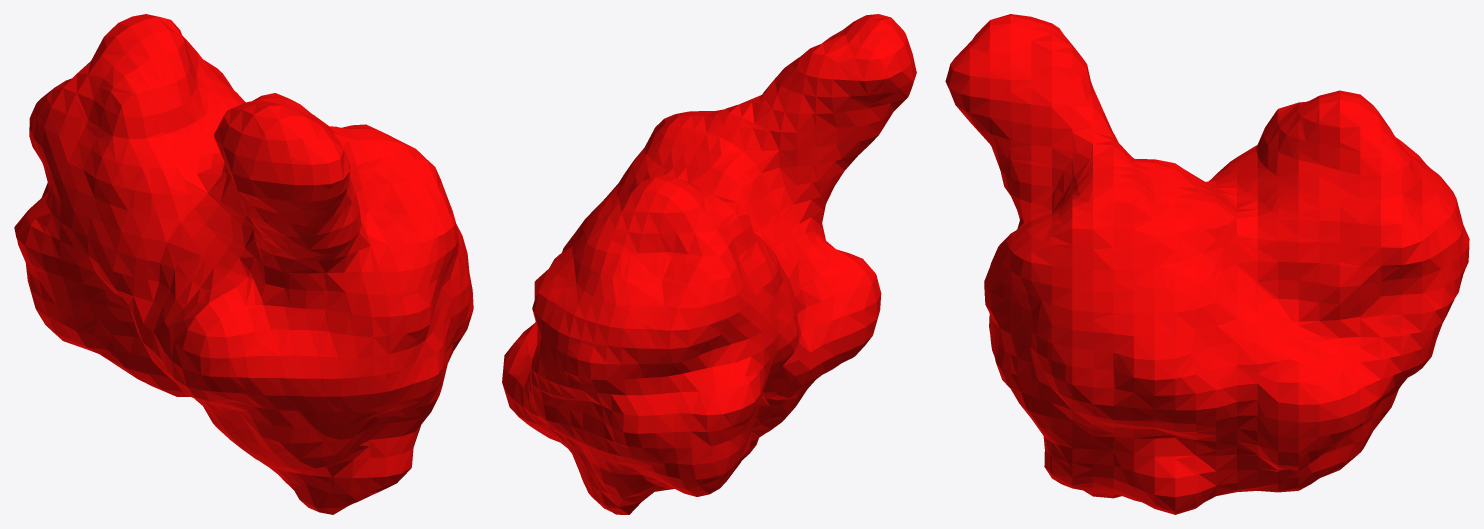
The model's file is aldA_coarse.dae.
The picture shows the model from 3 angles, left to right: view 1: azimuth 30°, elevation 25°; view 2: azimuth 150°, elevation 25°; view 3: azimuth 270°, elevation 25°; orthographic projection. The views are drawn at different scales.
Visible parts, largest first — view 1: aldA; view 2: aldA; view 3: aldA.
Part boxes in pixels (left/top/right/bottom): aldA: left=14, top=14, right=473, bottom=514; aldA: left=502, top=14, right=916, bottom=514; aldA: left=945, top=14, right=1469, bottom=514.
Bounding box in the file's own units: 49.82 × 69.69 × 76.76.
